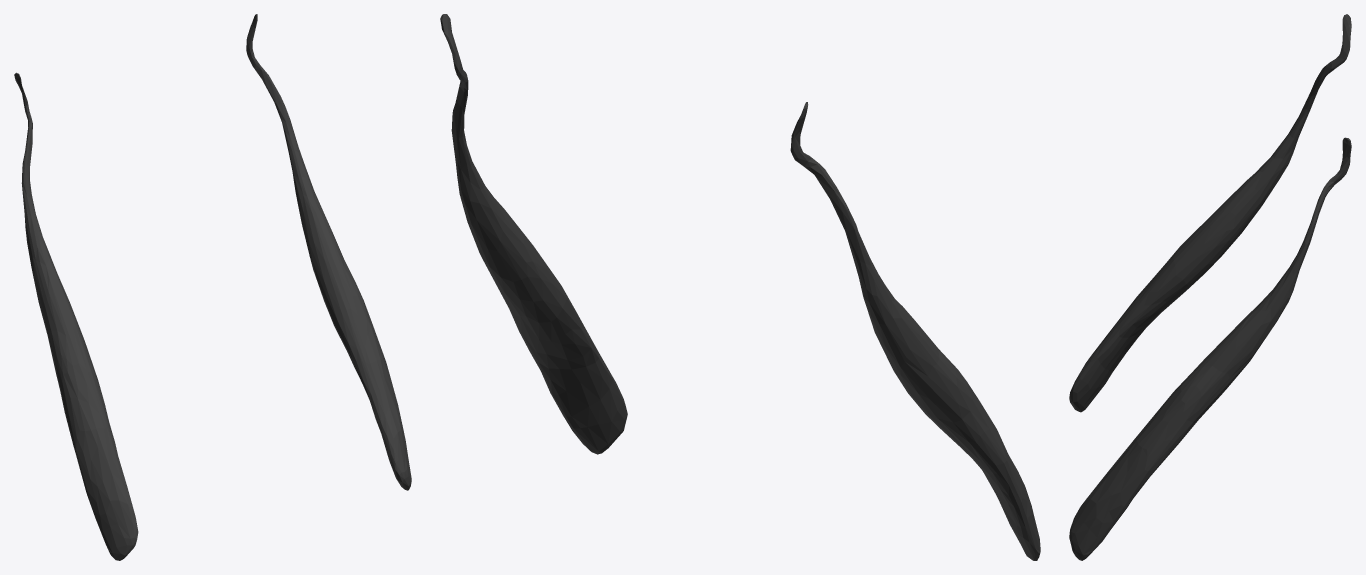
File: m_tibialis_cranialis.glb
3 views of the same model, side by side, from view 1: azimuth 30°, elevation 25°; view 2: azimuth 150°, elevation 25°; view 3: azimuth 270°, elevation 25° (orthographic). The views are drawn at different scales.
Visible parts, largest first — view 1: m_tibialis_cranialis; view 2: m_tibialis_cranialis; view 3: m_tibialis_cranialis.
Boxes of the visible parts, bbox=[...] form: m_tibialis_cranialis: bbox=[14, 14, 411, 560]; m_tibialis_cranialis: bbox=[440, 14, 1040, 560]; m_tibialis_cranialis: bbox=[1069, 14, 1351, 560].
Size of the model in its own units: 0.0527 by 0.0626 by 0.0391.
Materials: 1 (1 with a texture image).
